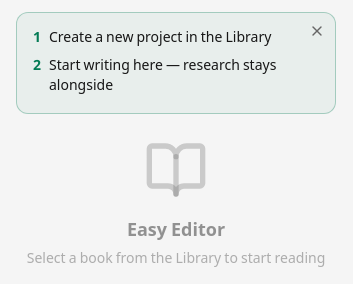
Test case: CanvasPanel first-run hint › dismisses and persists when the close button is clicked
The image size is (353, 284).
Click the button named "Dismiss" at (317, 31), box [305,19,329,43]
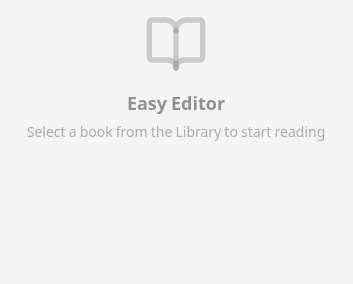
Check: the text "Create a new project in the Library" is gone
